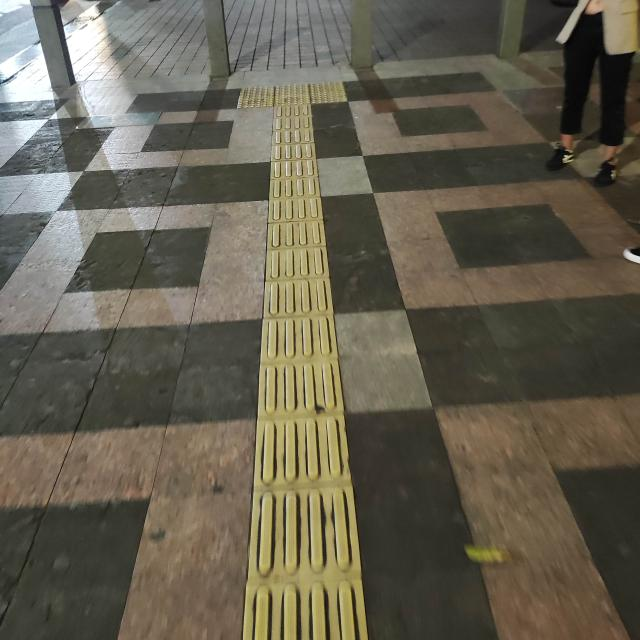lurus: (243, 98, 369, 640)
